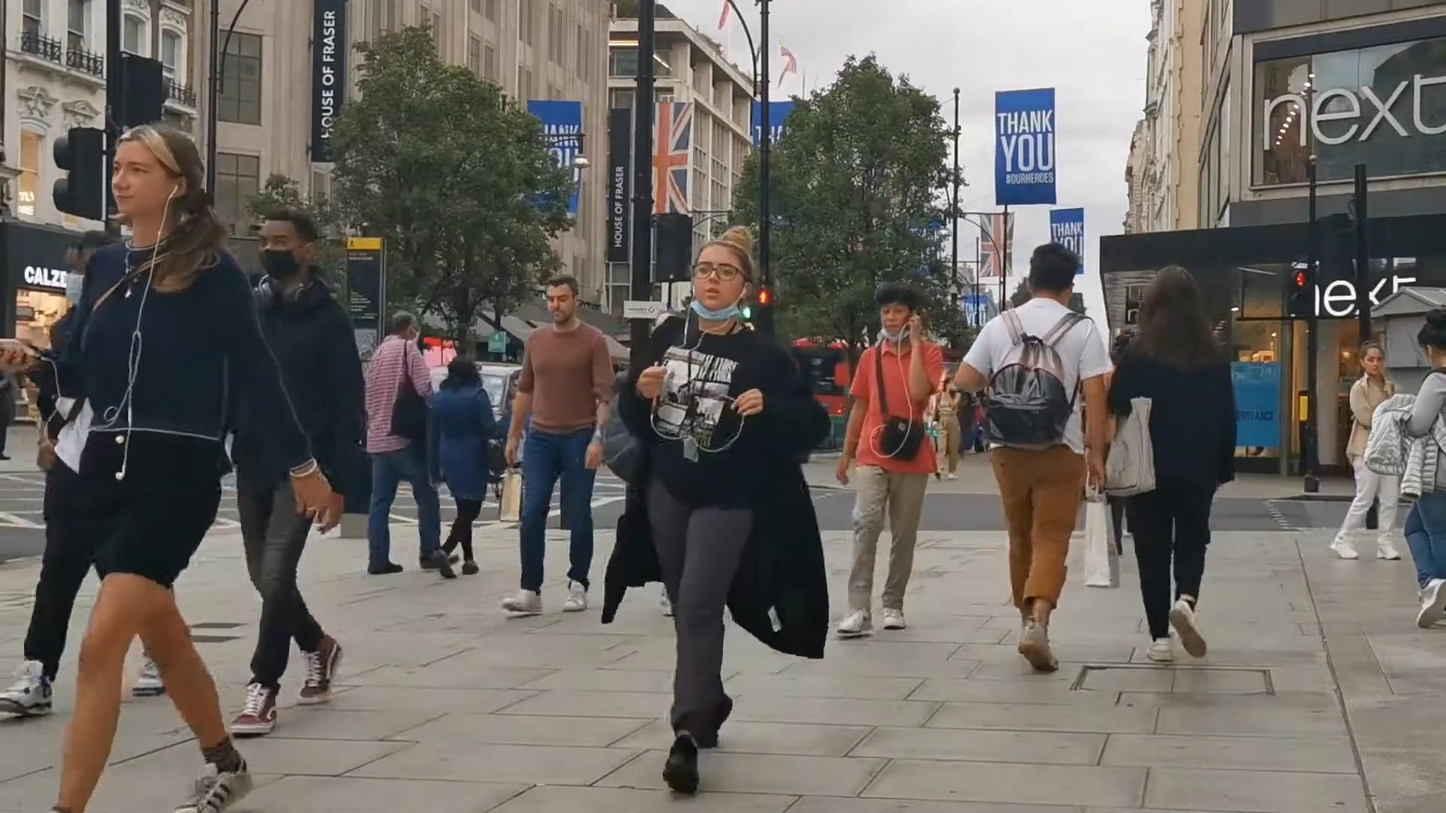no-helmet: (110, 122, 206, 218), (689, 225, 755, 322), (1138, 263, 1210, 334), (258, 205, 317, 280), (1027, 241, 1081, 307), (872, 283, 920, 344), (1415, 307, 1446, 369), (545, 274, 581, 325), (443, 355, 481, 388), (391, 310, 421, 344), (1359, 340, 1385, 377)
